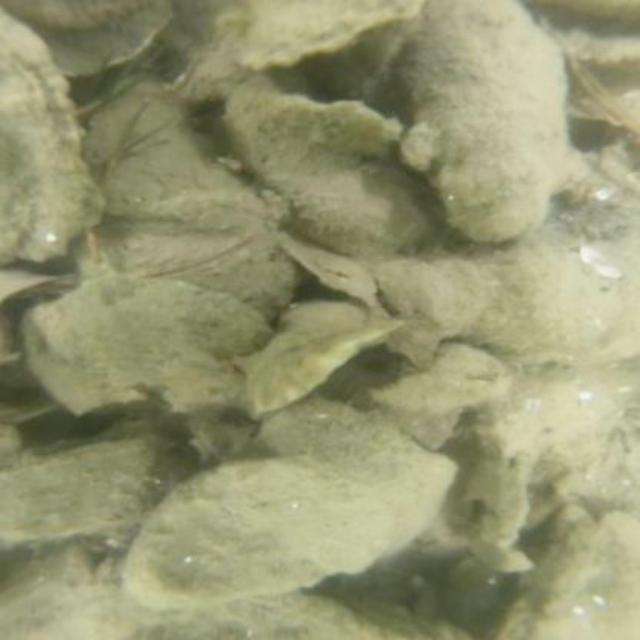Oyster-Closed: (127, 397, 456, 605), (74, 90, 293, 320), (396, 0, 581, 241), (12, 269, 277, 414), (225, 89, 421, 258), (0, 6, 107, 267), (195, 1, 426, 86), (243, 318, 411, 424), (531, 510, 640, 640), (274, 89, 412, 161), (366, 342, 504, 411), (376, 259, 488, 335)
Oyster-Open: (0, 418, 172, 544)
